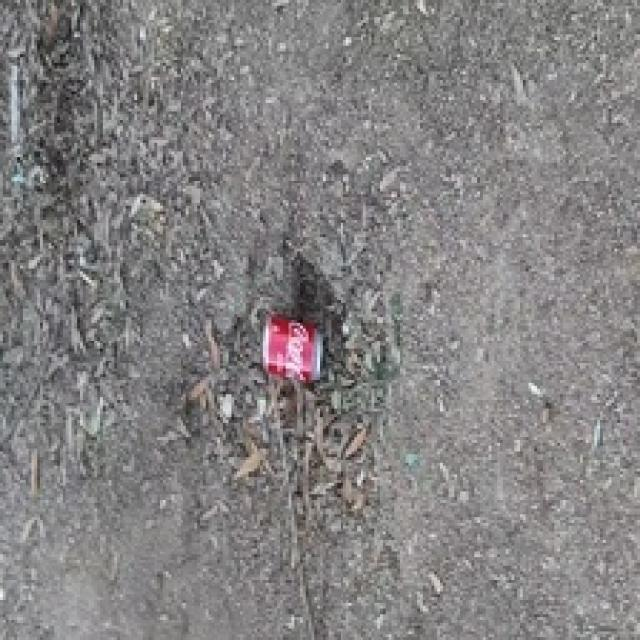recyclable: (262, 313, 330, 390)
